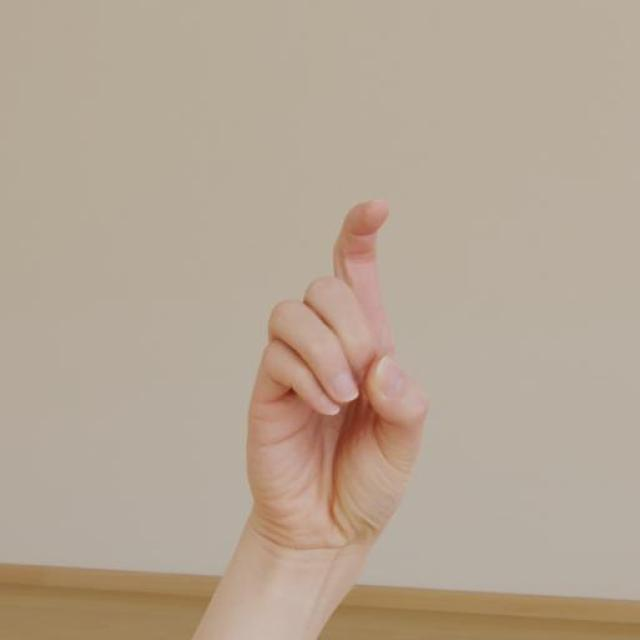X: (244, 184, 433, 586)
